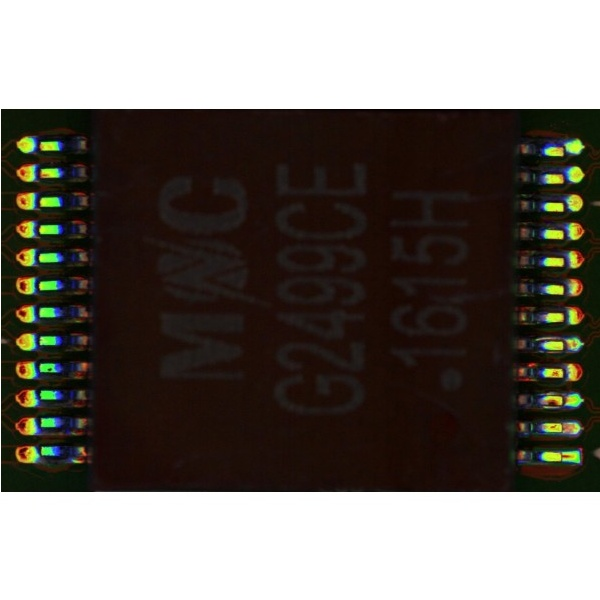Bad_podu: (555, 395, 571, 403), (552, 452, 570, 459), (553, 423, 567, 430)
Bad_qiaojiao: (534, 335, 564, 340)
